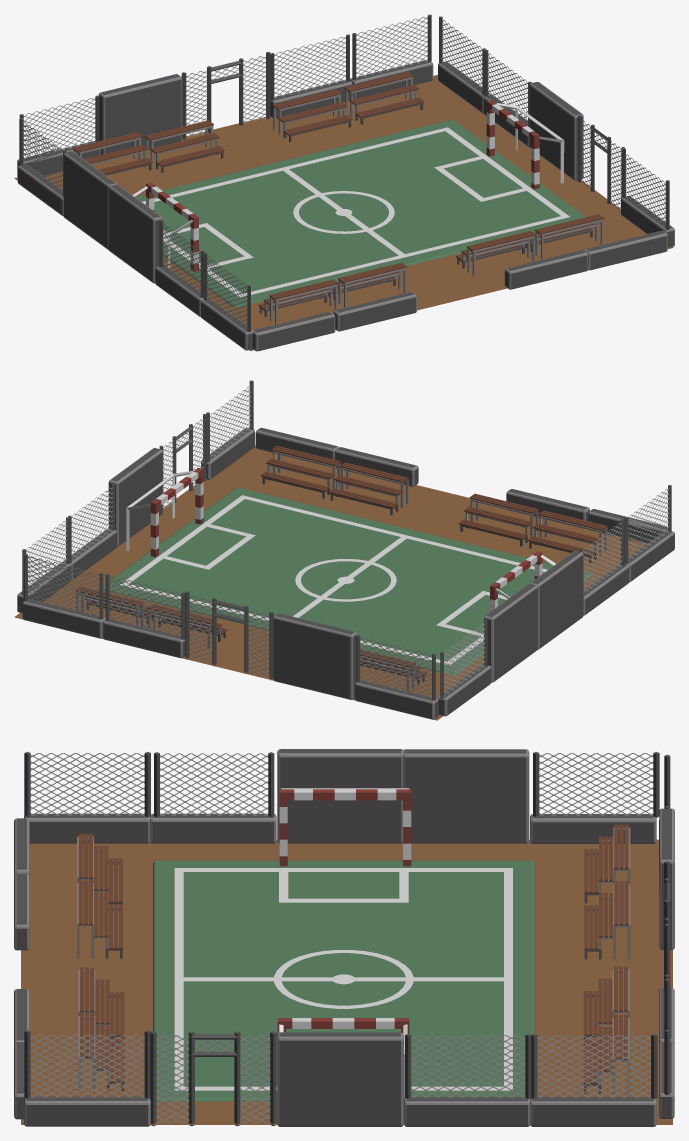
The model's file is Stadium_SoCC.glb.
The picture shows the model from 3 angles, top to bottom: view 1: azimuth 30°, elevation 25°; view 2: azimuth 150°, elevation 25°; view 3: azimuth 270°, elevation 25°; orthographic projection. The views are drawn at different scales.
Visible parts, largest first — view 1: Plane.001, Plane.003, Plane.002, Cube.041, Cube.015, Cube.016, Cube.020, Cube.042, Cube.036, Cube.038, Cube.005, Cube.012 (+29 smaller); view 2: Plane.001, Plane.003, Cube.041, Plane.002, Cube.016, Cube.015, Cube.020, Cube.042, Cube.038, Cube.040, Cube.036, Cube.005 (+28 smaller); view 3: Plane.001, Plane.003, Cube.020, Cube.016, Plane.002, Cube.015, Cube.047, Cube.046, Cube.044, Cube.026, Cube.045, Cube.043 (+25 smaller).
Boxes of the visible parts, x1,y1,x2,y2 form: Plane.001: [135, 119, 585, 307]; Plane.003: [14, 75, 673, 350]; Plane.002: [142, 127, 569, 297]; Cube.041: [98, 74, 182, 154]; Cube.015: [108, 184, 162, 283]; Cube.016: [63, 151, 117, 249]; Cube.020: [529, 82, 583, 180]; Cube.042: [181, 51, 270, 139]; Cube.036: [352, 14, 431, 79]; Cube.038: [270, 34, 349, 100]; Cube.005: [486, 100, 564, 189]; Cube.012: [272, 89, 352, 142]; Plane.001: [103, 487, 592, 675]; Plane.003: [14, 445, 646, 720]; Cube.041: [273, 613, 356, 699]; Plane.002: [120, 495, 547, 664]; Cube.016: [484, 584, 537, 682]; Cube.015: [530, 550, 583, 649]; Cube.020: [108, 448, 162, 546]; Cube.042: [185, 591, 273, 680]; Cube.038: [105, 574, 185, 639]; Cube.040: [356, 635, 435, 700]; Cube.036: [24, 554, 103, 619]; Cube.005: [126, 468, 203, 557]; Plane.001: [153, 860, 534, 1101]; Plane.003: [21, 839, 672, 1124]; Cube.020: [277, 1032, 403, 1126]; Cube.016: [403, 749, 529, 843]; Plane.002: [174, 868, 512, 1090]; Cube.015: [277, 749, 403, 843]; Cube.047: [150, 1031, 276, 1126]; Cube.046: [24, 1030, 150, 1098]; Cube.044: [405, 1033, 531, 1099]; Cube.026: [24, 751, 150, 816]; Cube.045: [531, 1033, 657, 1098]; Cube.043: [533, 752, 659, 817].
Bounding box in the file's own units: 24.01 × 3.62 × 23.12.
Materials: 2 (2 with a texture image).
